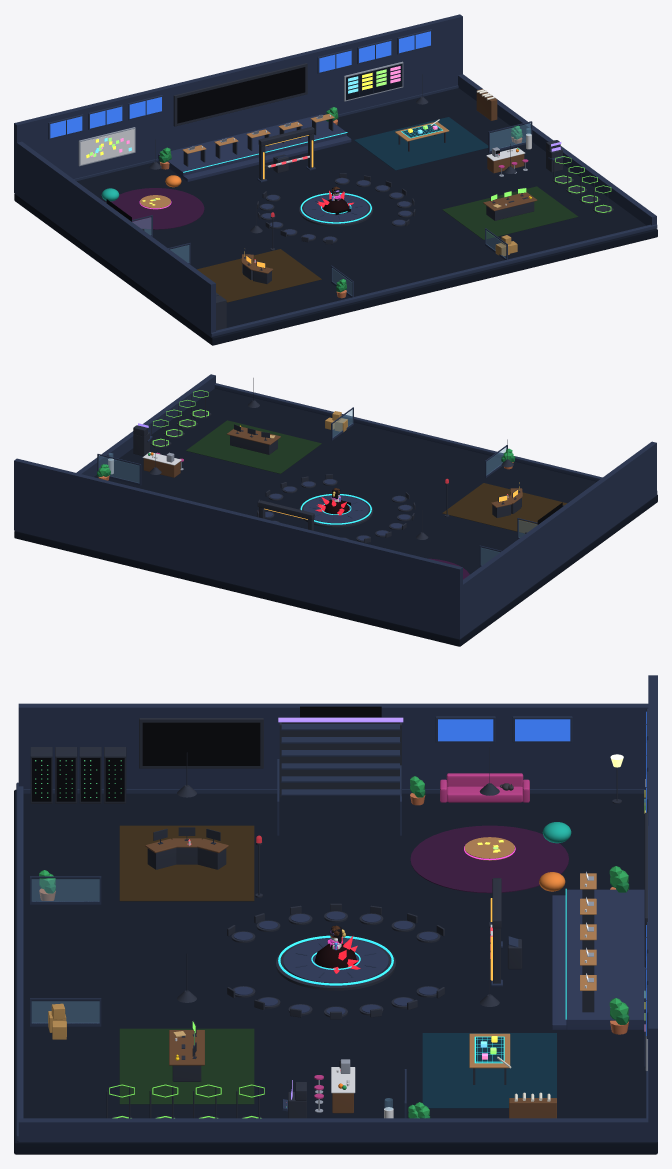
The model's file is office.glb.
3 renders of one model, top to bottom at view 1: azimuth 30°, elevation 25°; view 2: azimuth 150°, elevation 25°; view 3: azimuth 270°, elevation 25°, orthographic. The views are drawn at different scales.
Visible parts, largest first — view 1: env, floor, scr_board; view 2: env, floor; view 3: env, floor, scr_noc, scr_vault, storm_body, hub_ring.
Part boxes in pixels (<box>): env: <box>14,14,657,345</box>; floor: <box>77,88,645,327</box>; scr_board: <box>177,67,305,123</box>; env: <box>14,374,657,646</box>; floor: <box>94,388,595,574</box>; env: <box>14,675,657,1154</box>; floor: <box>23,793,646,1118</box>; scr_noc: <box>142,722,260,765</box>; scr_vault: <box>300,706,381,717</box>; storm_body: <box>315,936,360,973</box>; hub_ring: <box>278,935,393,985</box>.
Bounding box in the file's own units: 34.8 × 6.44 × 26.8.
